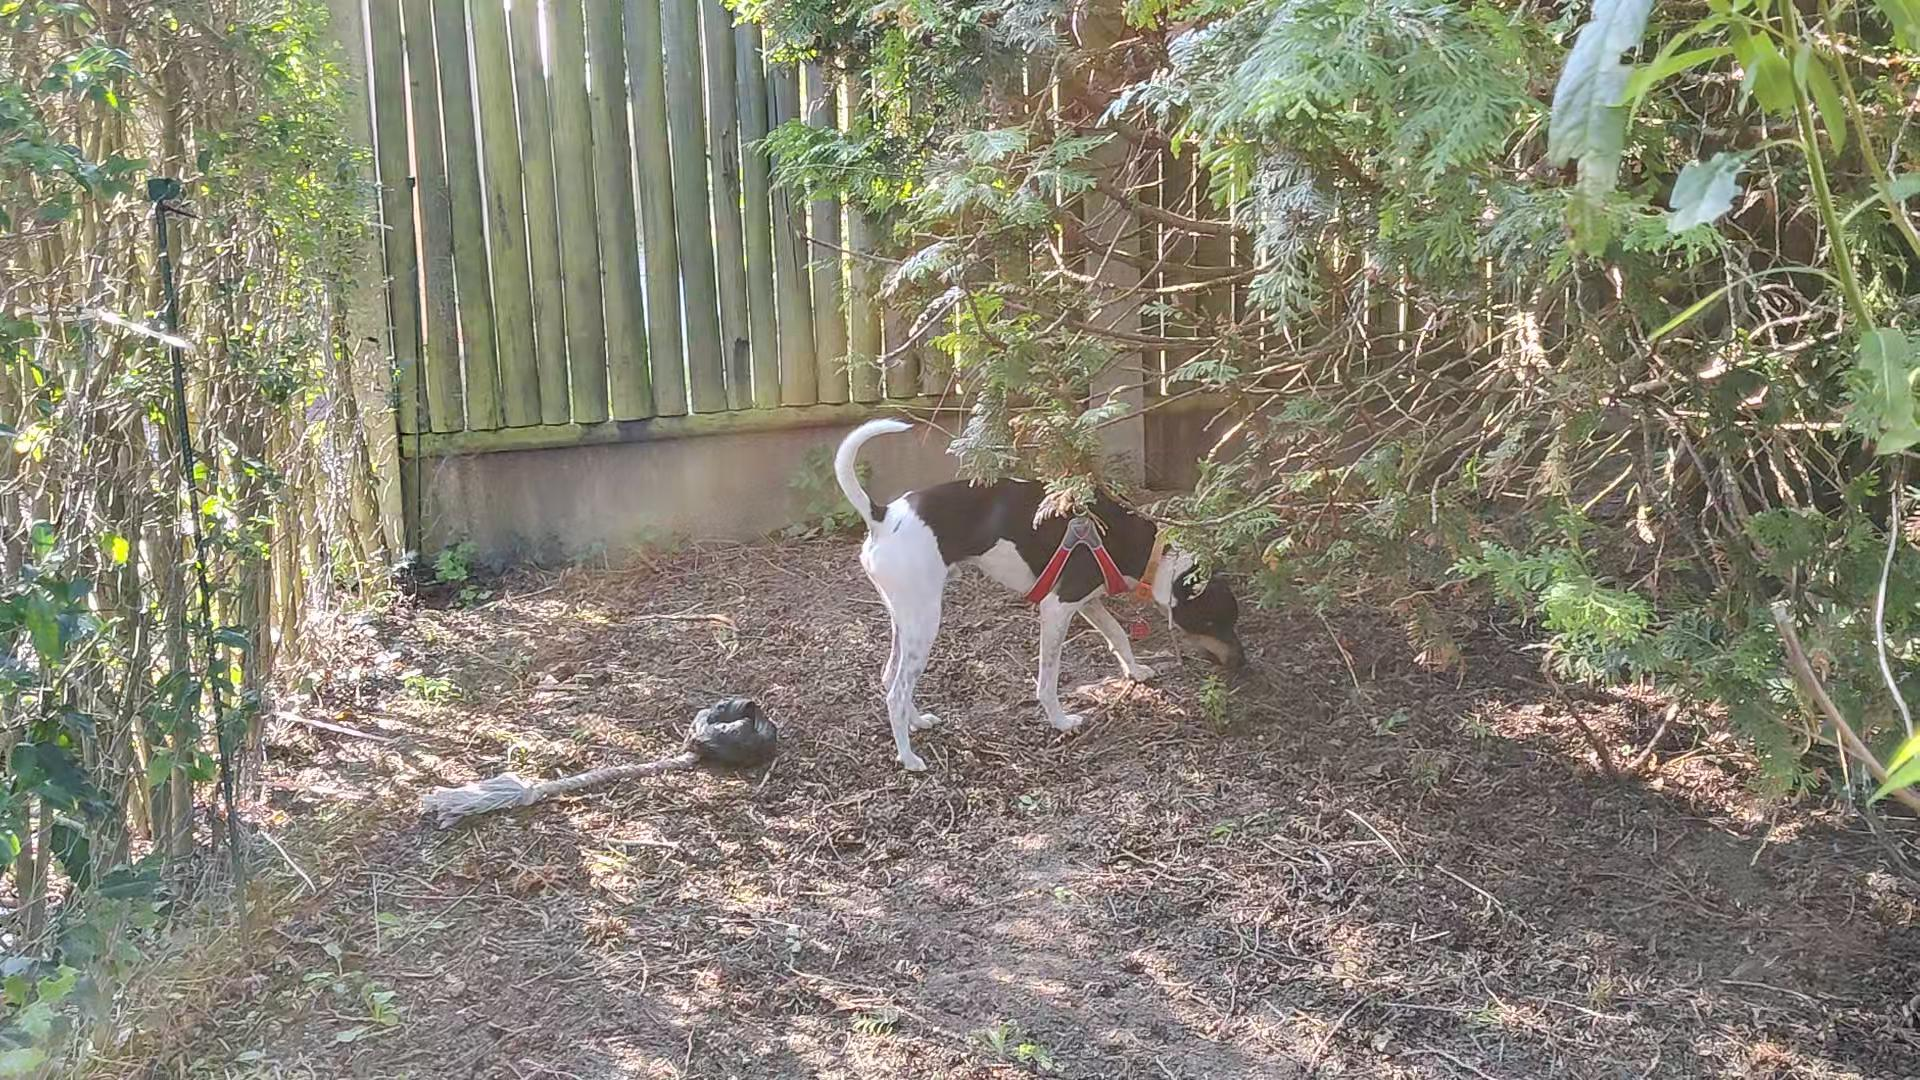Dog: (822, 410, 1254, 778)
